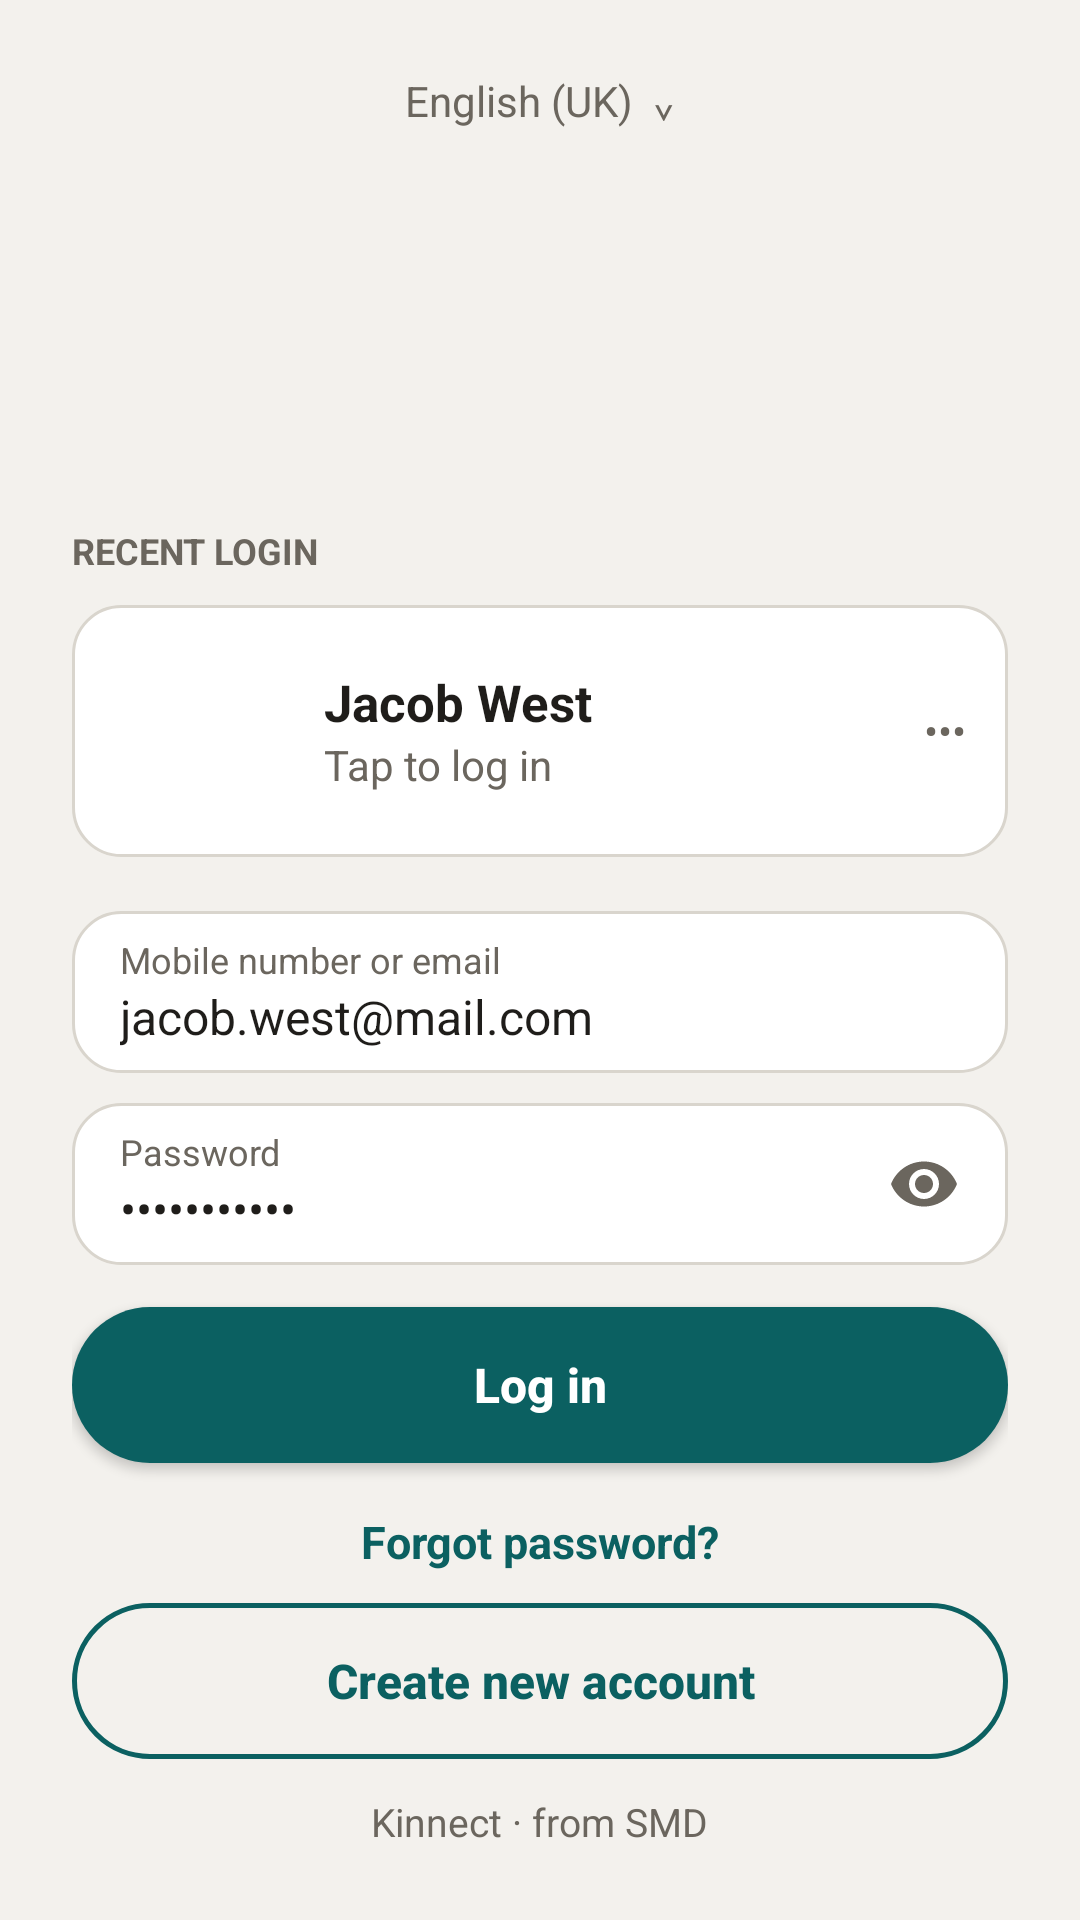

Screen size 1080x1920. Icon name, then its box in pixels as rect(x1, y1, x2, y2):
visibility: rect(891, 1161, 957, 1207)
